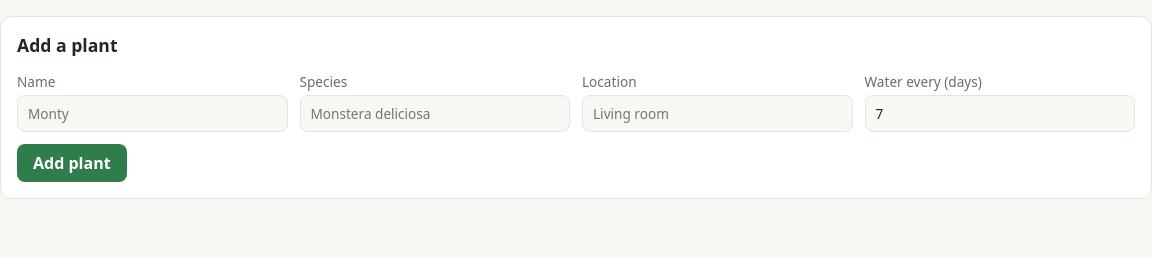
Test: PlantForm › shows the error and keeps the input when saving fails
The width and height of the screenshot is (1152, 258).
Type "Cactus" into the field labelled "Name" at coordinates (152, 113), box [17,95,288,132]
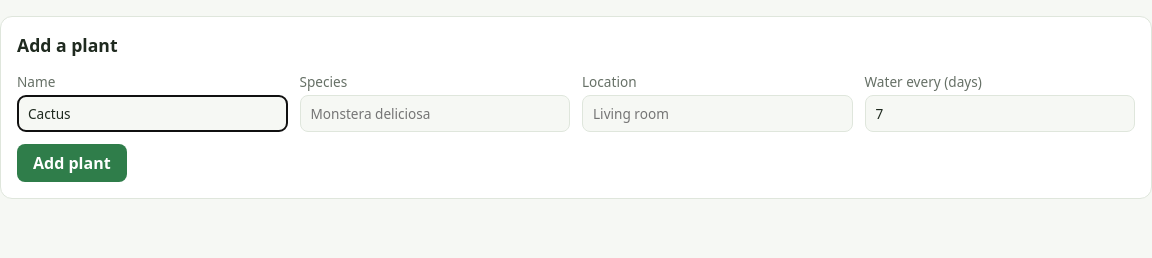
Click the button "Add plant" at coordinates (72, 163), box [17,144,127,182]
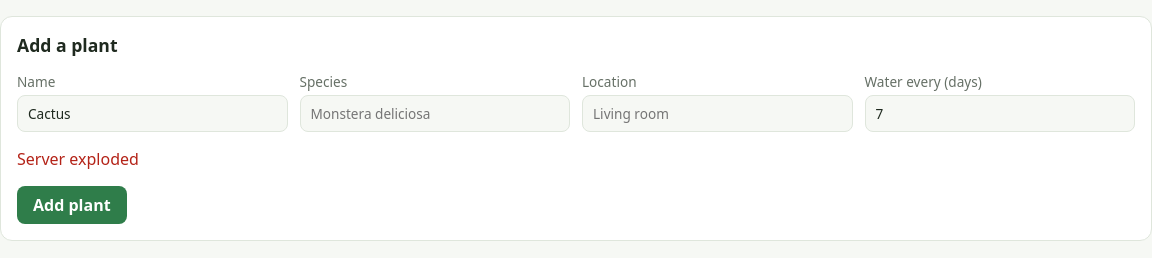
Expected: the button "Add plant" is enabled, [17,186,127,224]
Expected: the text "Server exploded" is shown, [17,148,139,170]
